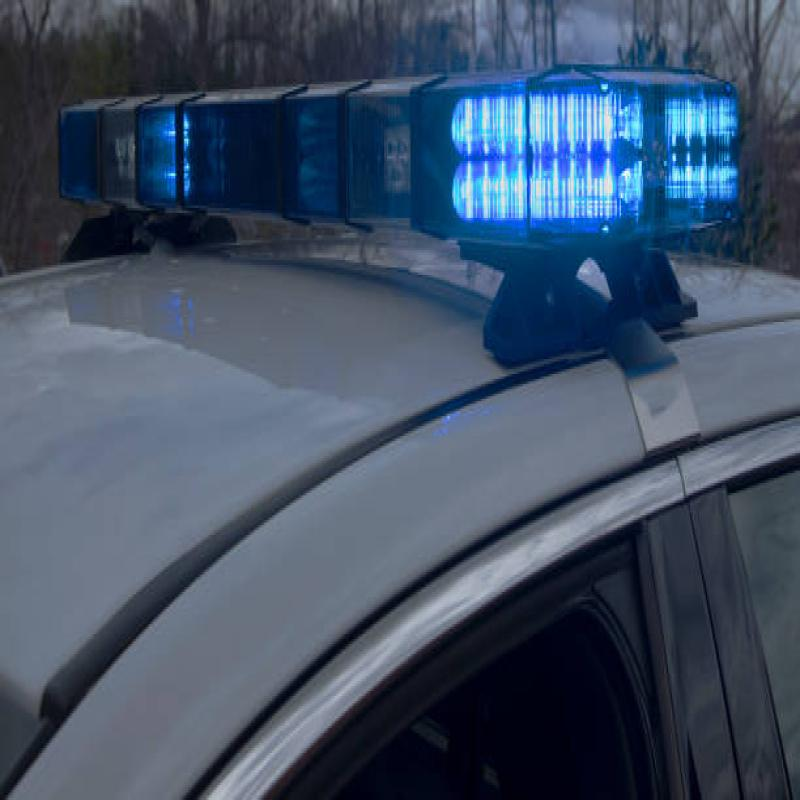AmbulanceSiren: (43, 48, 731, 242)
